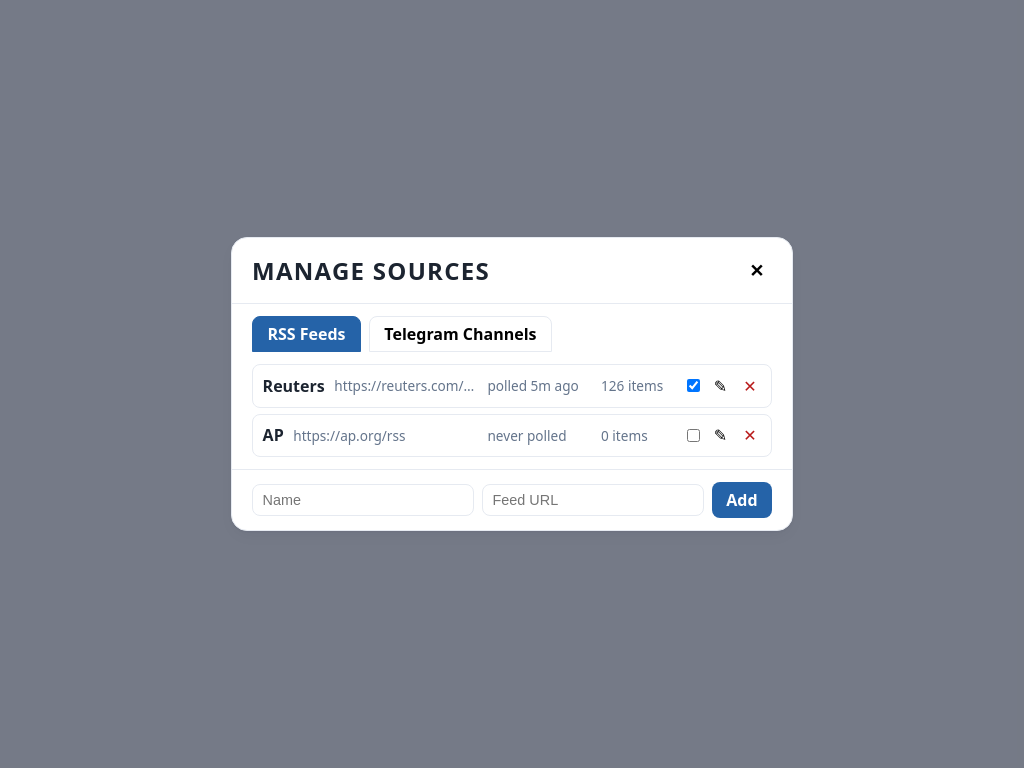
Scenario: SourcesModal › switching tabs shows telegram sources
Expected: the text "Reuters" is shown, [263,375,325,397]
Click the button "Telegram Channels" at (460, 334), box [369,316,552,352]
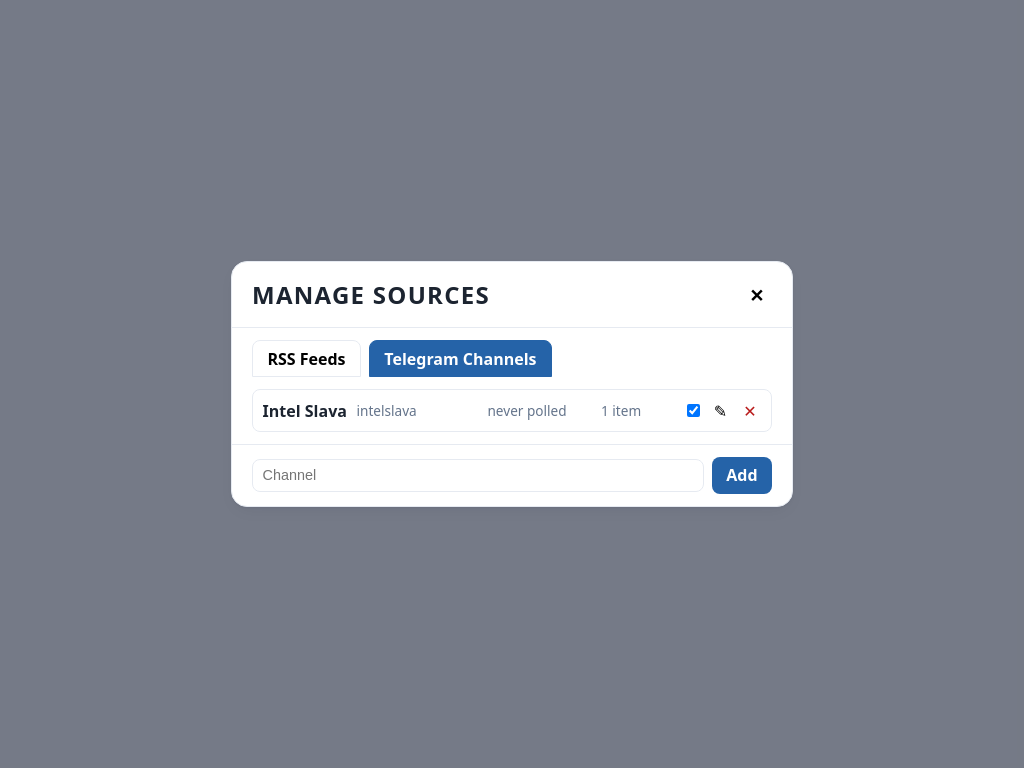
Expected: the text "intelslava" is shown, [356,401,417,420]
Expected: the text "Reuters" is gone
